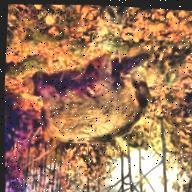boar: (20, 34, 163, 177)
